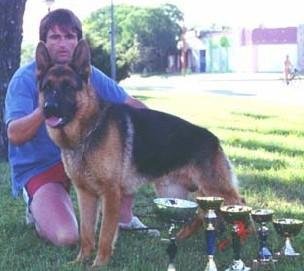German_shepherd: (34, 36, 245, 270)
